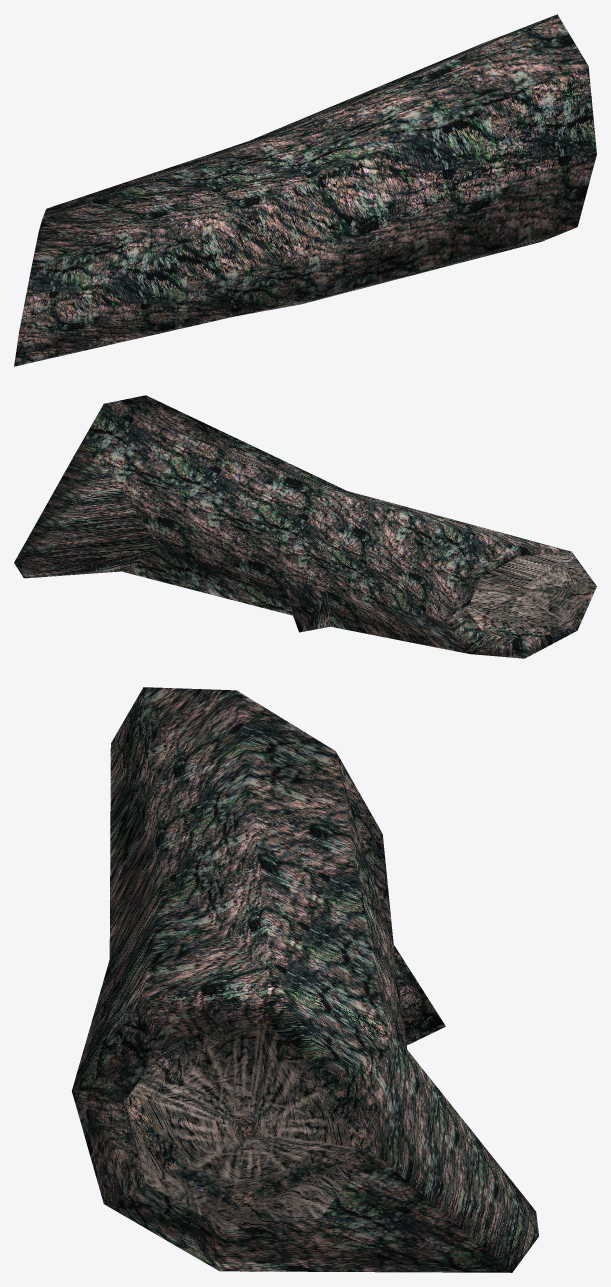
File: decd_dath_blacktreelog_l1.fbx
The picture shows the model from 3 angles, top to bottom: view 1: azimuth 30°, elevation 25°; view 2: azimuth 150°, elevation 25°; view 3: azimuth 270°, elevation 25°; orthographic projection. The views are drawn at different scales.
Visible parts, largest first — view 1: mesh_node; view 2: mesh_node; view 3: mesh_node.
Boxes of the visible parts, bbox=[...] form: mesh_node: bbox=[14, 14, 596, 366]; mesh_node: bbox=[14, 395, 596, 658]; mesh_node: bbox=[72, 687, 538, 1272].
Bounding box in the file's own units: 6.89 × 2.28 × 2.93.
